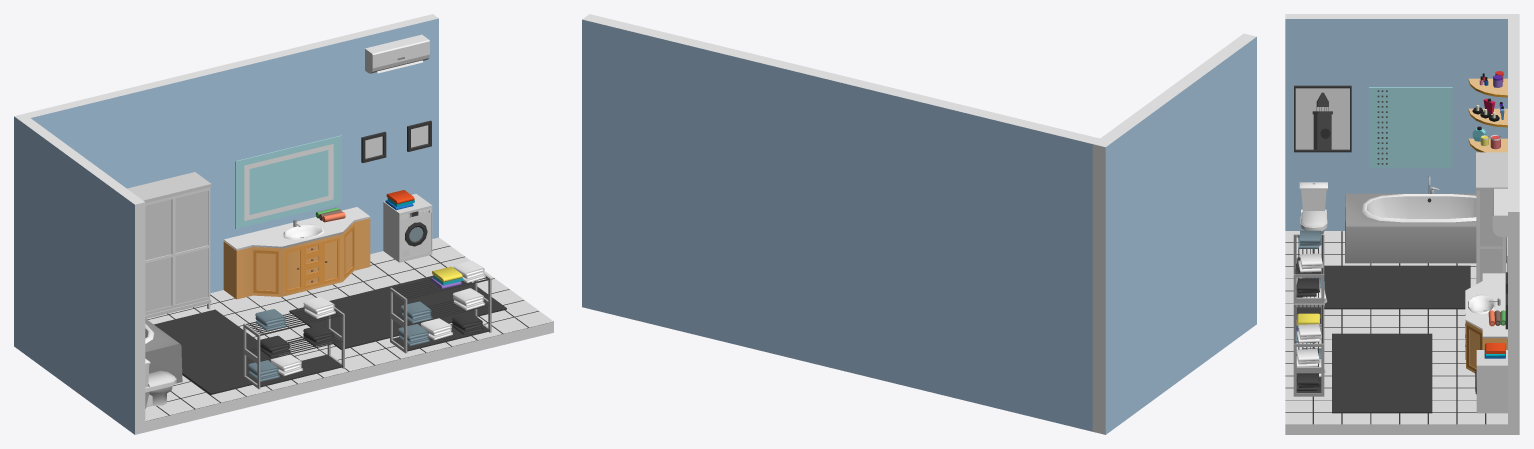
The model's file is room_20.glb.
The picture shows the model from 3 angles, left to right: view 1: azimuth 30°, elevation 25°; view 2: azimuth 150°, elevation 25°; view 3: azimuth 270°, elevation 25°; orthographic projection. The views are drawn at different scales.
Parts seen in each view (by area): view 1: Walls_144.008, Walls_144.009, bathroom_item_024.001, closet_013.001, floor_014.015, picture_028.001, Walls_011.018, Walls_040.021, Walls_040.022, floor_014.016, shelf_011.003, bathroom_item_011.001 (+13 smaller); view 2: Walls_144.008, Walls_144.009; view 3: Walls_144.009, bathroom_item_023.002, floor_014.015, Walls_040.021, picture_060.001, Walls_040.022, Walls_144.008, floor_014.016, Walls_011.018, picture_001.001, closet_013.001, bathroom_item_024.001 (+15 smaller).
Boxes of the visible parts, <box> form: Walls_144.008: <box>25,14,438,292</box>; Walls_144.009: <box>14,113,145,434</box>; bathroom_item_024.001: <box>223,207,370,299</box>; closet_013.001: <box>127,172,211,318</box>; floor_014.015: <box>248,237,553,371</box>; picture_028.001: <box>235,135,341,228</box>; Walls_011.018: <box>145,245,553,432</box>; Walls_040.021: <box>289,275,506,349</box>; Walls_040.022: <box>154,309,278,394</box>; floor_014.016: <box>145,290,347,421</box>; shelf_011.003: <box>243,306,344,389</box>; bathroom_item_011.001: <box>383,194,432,262</box>; Walls_144.008: <box>582,14,1099,431</box>; Walls_144.009: <box>1092,33,1256,434</box>; Walls_144.009: <box>1285,14,1519,231</box>; bathroom_item_023.002: <box>1345,175,1506,263</box>; floor_014.015: <box>1285,327,1507,424</box>; Walls_040.021: <box>1332,333,1432,413</box>; picture_060.001: <box>1369,87,1452,167</box>; Walls_040.022: <box>1316,265,1470,309</box>; Walls_144.008: <box>1508,19,1519,434</box>; floor_014.016: <box>1285,231,1506,326</box>; Walls_011.018: <box>1285,231,1507,434</box>; picture_001.001: <box>1294,85,1351,152</box>; closet_013.001: <box>1476,152,1507,284</box>; bathroom_item_024.001: <box>1465,273,1507,373</box>.
Bounding box in the file's own units: 8 × 4.2 × 4.
Materials: 1 (1 with a texture image).
